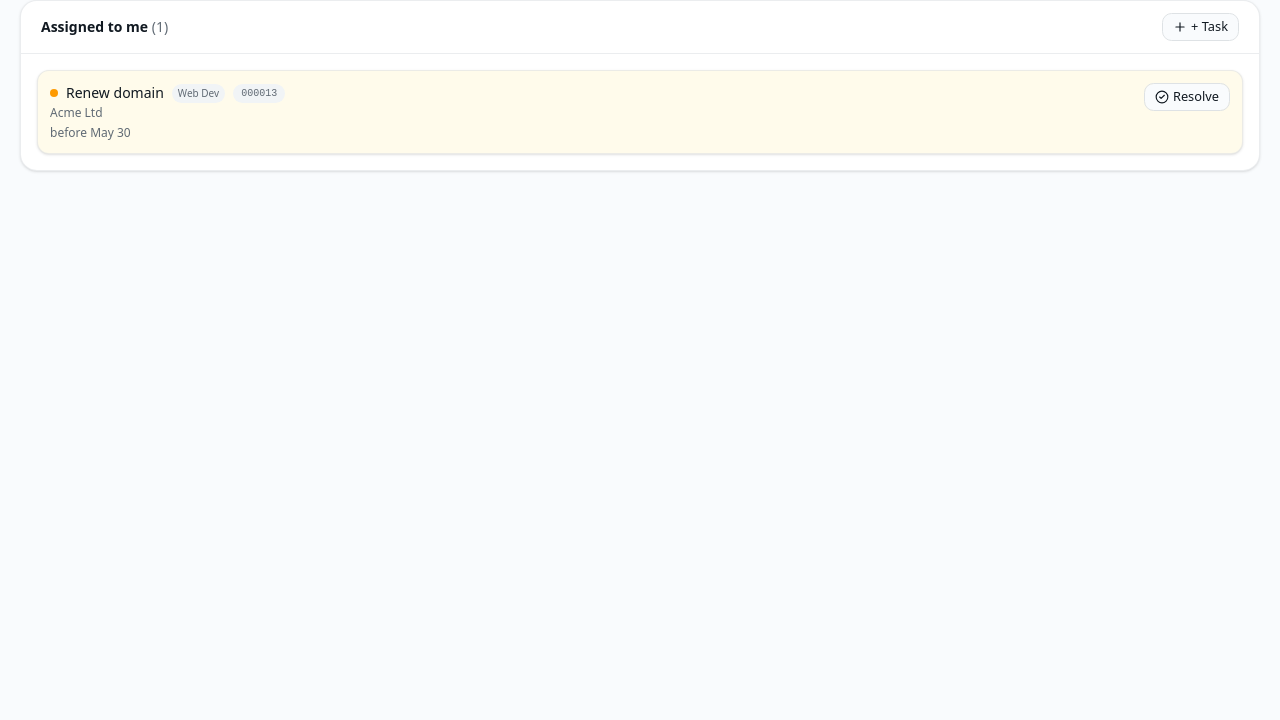
it: AssignedTasksColumn › clicking the row opens the detail dialog
Click the button "Renew domain Web Dev 000013 Acme Ltd before May 30 Resolve" at (115, 92), box top-left (37, 70), bottom-right (1243, 154)
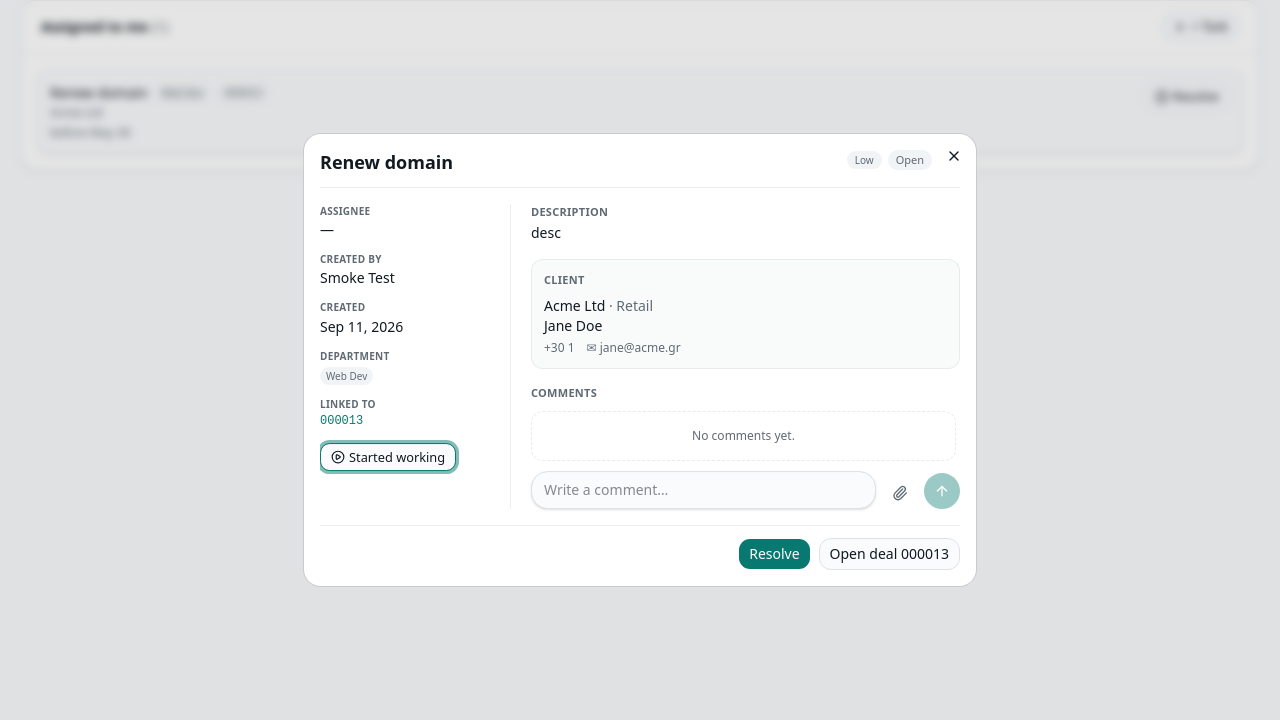
expect the dialog is shown: met, box top-left (304, 134), bottom-right (976, 586)
